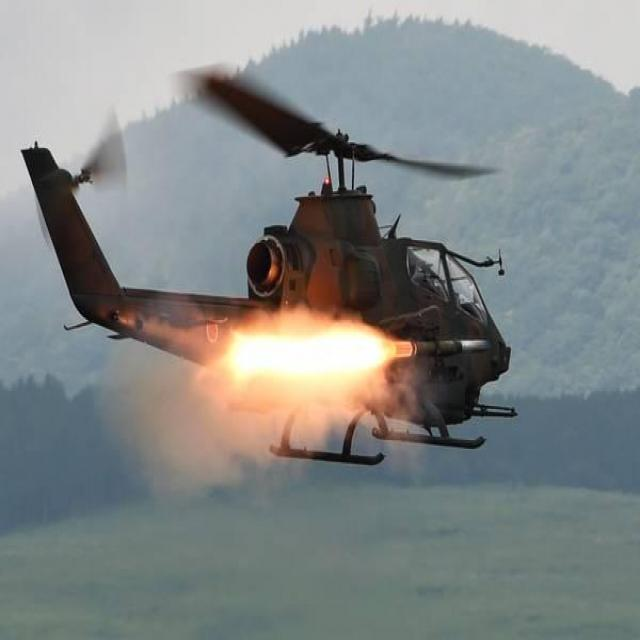MIL_HELO: (12, 68, 539, 475)
